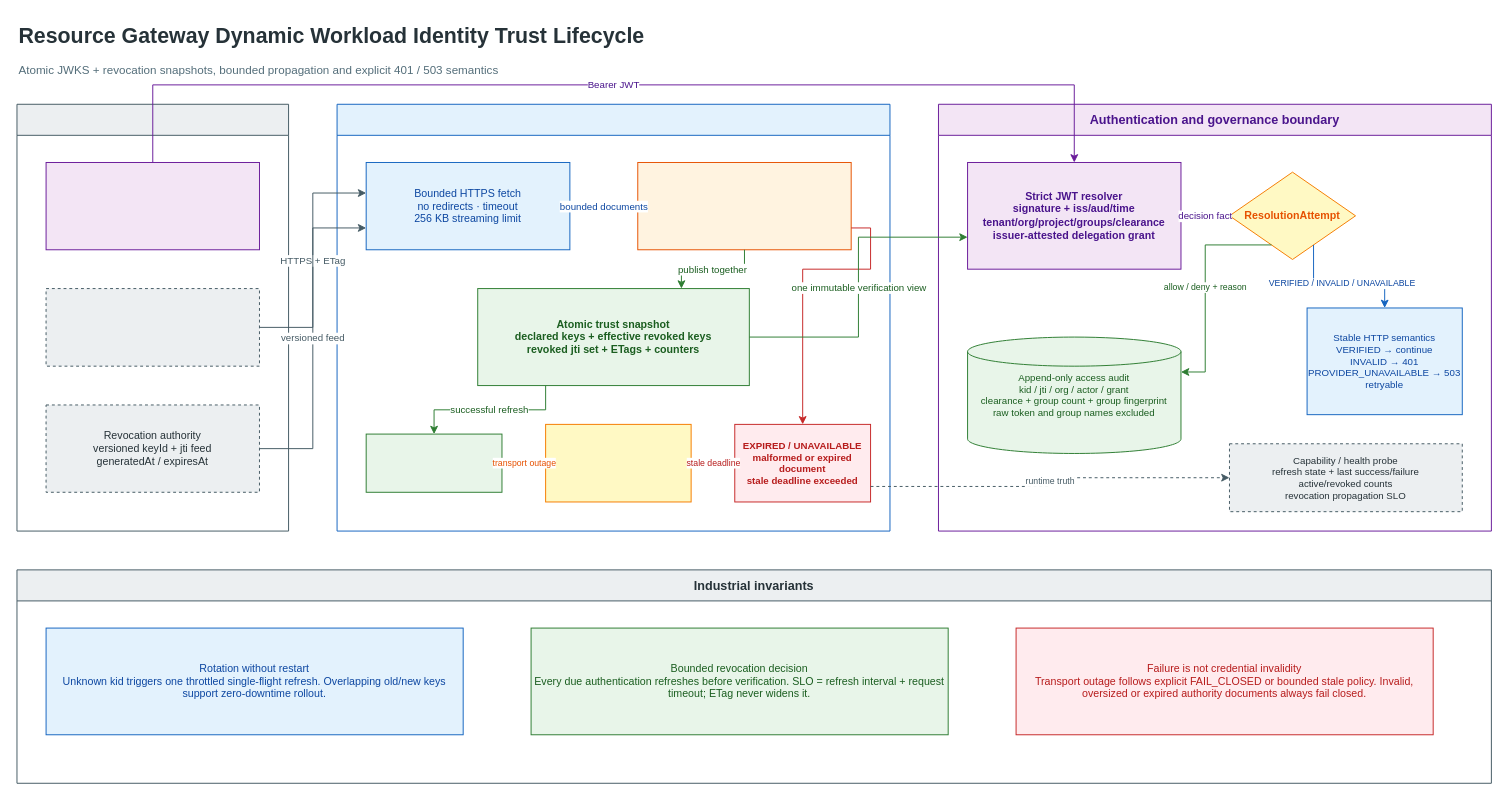
Some shapes in this 1508 by 800 pixel diagram are drawn without their labels. Each missing label, with the box of its shape:
Enterprise IAM authority: (16, 103, 289, 531)
HEALTHY current snapshot: (365, 433, 502, 492)
JWKS endpoint public RSA / Ed25519 keys ETag: (45, 288, 259, 366)
Refresh coordinator single-flight unknown-kid throttle: (637, 162, 851, 250)
Resource Gateway dynamic trust store: (336, 103, 890, 531)
Signed workload JWT RS256 / EdDSA kid + jti + scope + purpose: (45, 162, 259, 250)
STALE transport failure only explicit bounded policy: (545, 423, 691, 502)
